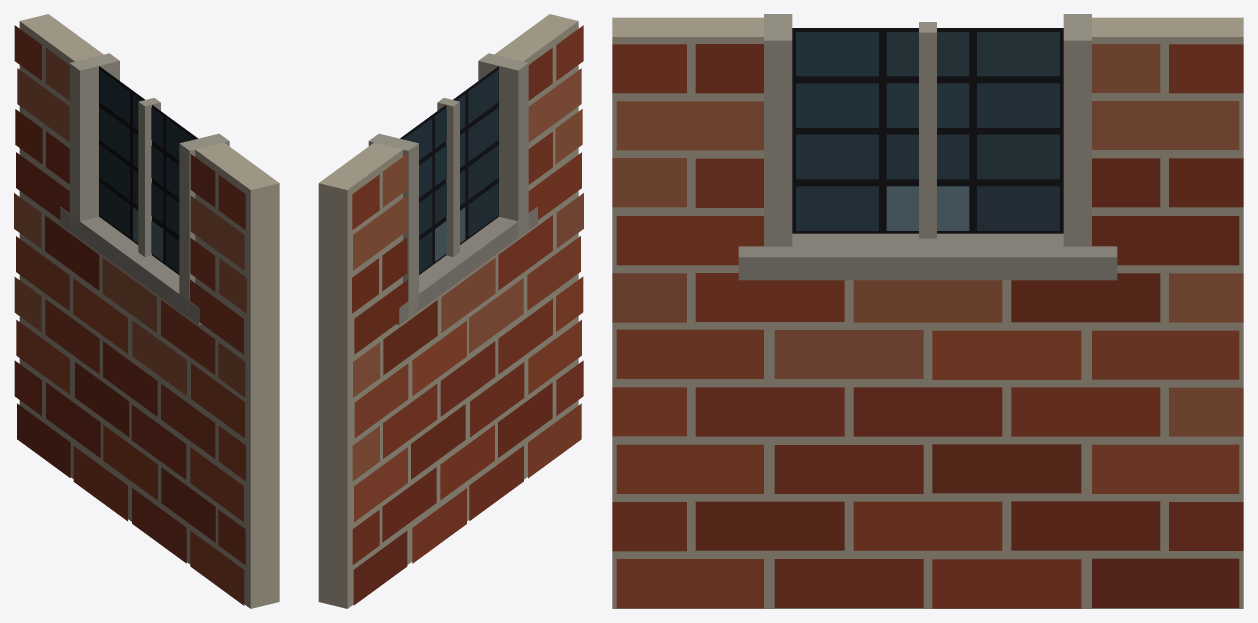
The model's file is wall-brick-window-low.glb.
3 views of the same model, side by side, from view 1: azimuth 30°, elevation 25°; view 2: azimuth 150°, elevation 25°; view 3: azimuth 270°, elevation 25° (orthographic). The views are drawn at different scales.
Parts seen in each view (by area): view 1: wall-brick-window-low; view 2: wall-brick-window-low; view 3: wall-brick-window-low.
Part boxes in pixels (left/top/right/bottom): wall-brick-window-low: left=14, top=14, right=279, bottom=608; wall-brick-window-low: left=318, top=14, right=583, bottom=608; wall-brick-window-low: left=612, top=14, right=1243, bottom=608.
Bounding box in the file's own units: 0.14 × 1 × 1.
